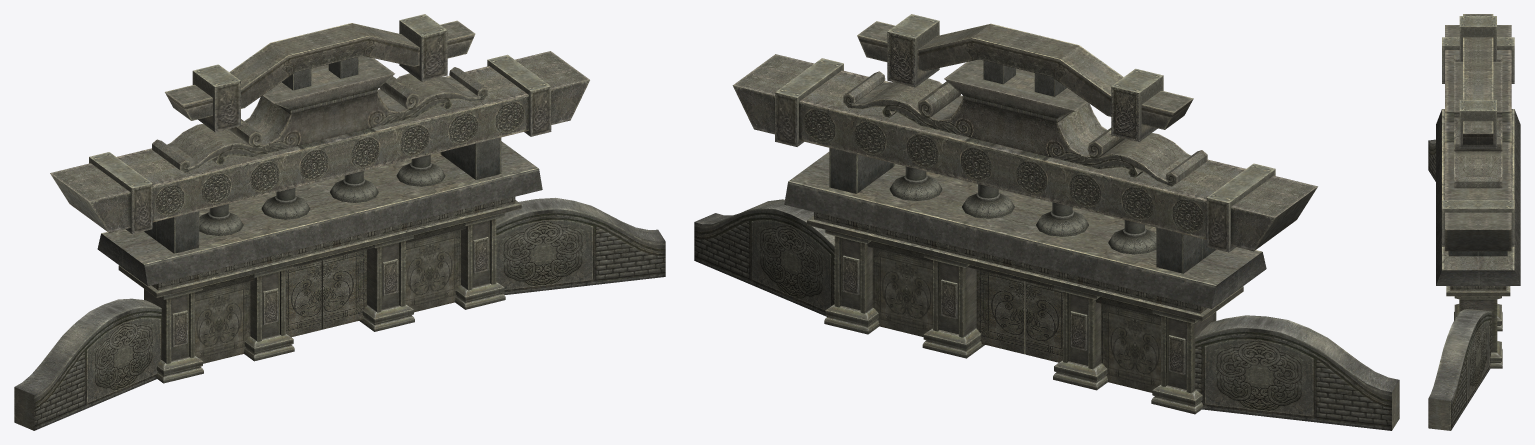
The model's file is 4st_gate_001.fbx.
3 renders of one model, left to right at view 1: azimuth 30°, elevation 25°; view 2: azimuth 150°, elevation 25°; view 3: azimuth 270°, elevation 25°, orthographic. The views are drawn at different scales.
Visible parts, largest first — view 1: 2st_gate_001; view 2: 2st_gate_001; view 3: 2st_gate_001.
Boxes of the visible parts, x1,y1,x2,y2 form: 2st_gate_001: (14,14,665,430); 2st_gate_001: (694,14,1399,430); 2st_gate_001: (1428,14,1520,430).
Size of the model in its own units: 37.25 by 16.18 by 5.51.
